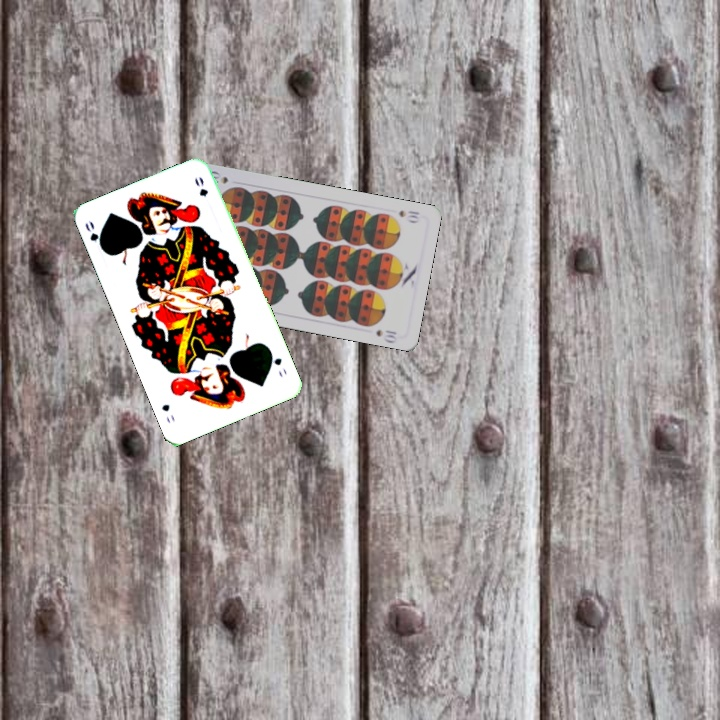GO: (81, 217, 107, 254), (265, 346, 289, 380)
S10: (394, 206, 422, 225)
